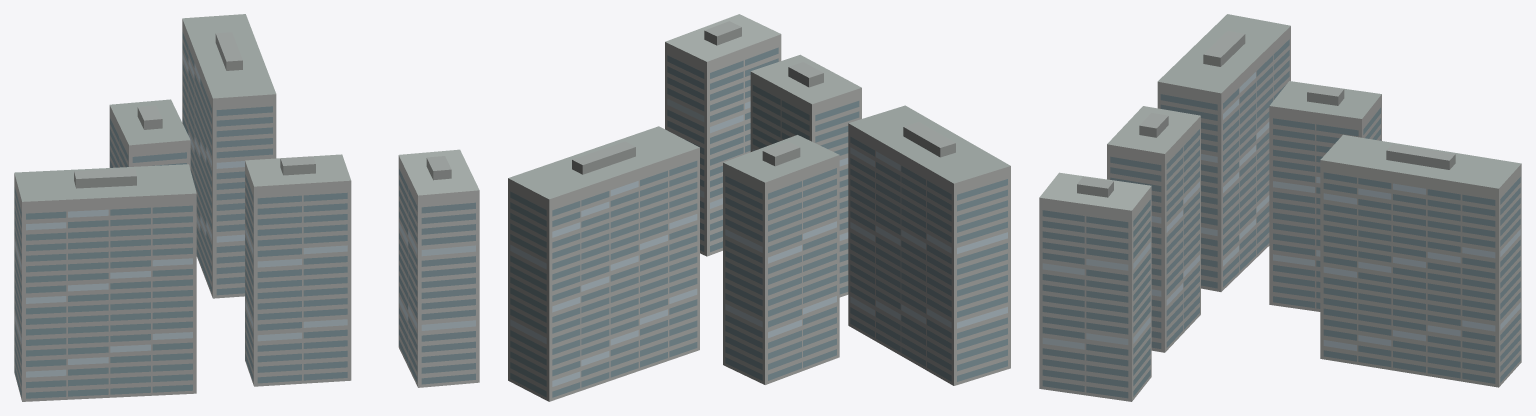
The model's file is apt-a14319007.glb.
3 views of the same model, side by side, from view 1: azimuth 30°, elevation 25°; view 2: azimuth 150°, elevation 25°; view 3: azimuth 270°, elevation 25° (orthographic).
Visible parts, largest first — view 1: apt-a14319007; view 2: apt-a14319007; view 3: apt-a14319007.
Part boxes in pixels (box(x1,y1,x2,y2)): apt-a14319007: box(14, 14, 479, 401); apt-a14319007: box(508, 14, 1010, 401); apt-a14319007: box(1039, 14, 1521, 401).
Size of the model in its own units: 101 by 52 by 109.
